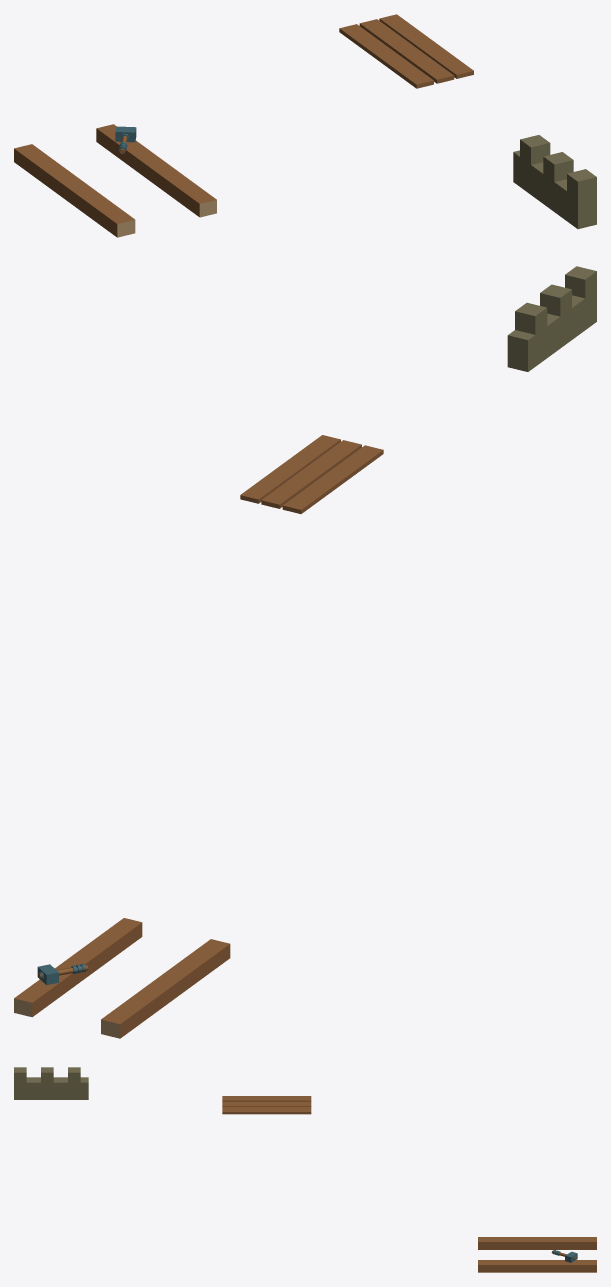
3 views of the same model, one above another, from view 1: azimuth 30°, elevation 25°; view 2: azimuth 150°, elevation 25°; view 3: azimuth 270°, elevation 25° (orthographic). The views are drawn at different scales.
Visible parts, largest first — view 1: Box15455_brown_0, Plane354_brown_0, Object247_rock2_0, Box15475_rock2_0, Box15476_rock2_0, Box15477_rock2_0, Box15455_brown2_0, Box16204_metal_0; view 2: Box15455_brown_0, Plane354_brown_0, Object247_rock2_0; view 3: Box15455_brown_0, Plane354_brown_0, Object247_rock2_0.
Part boxes in pixels (x1,y1,x2,y2): Box15455_brown_0: [14, 124, 216, 237]; Plane354_brown_0: [339, 14, 473, 88]; Object247_rock2_0: [513, 150, 596, 229]; Box15475_rock2_0: [567, 169, 596, 198]; Box15476_rock2_0: [543, 152, 573, 181]; Box15477_rock2_0: [520, 135, 550, 164]; Box15455_brown2_0: [117, 200, 216, 237]; Box16204_metal_0: [115, 126, 136, 153]; Box15455_brown_0: [14, 918, 230, 1038]; Plane354_brown_0: [240, 435, 383, 513]; Object247_rock2_0: [507, 290, 596, 371]; Box15455_brown_0: [478, 1237, 596, 1272]; Plane354_brown_0: [222, 1096, 311, 1114]; Object247_rock2_0: [14, 1077, 88, 1099].
Bounding box in the file's own units: 283 × 672 × 1833.
